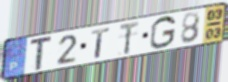2: (58, 33, 79, 66)
8: (180, 12, 201, 44)
G: (149, 15, 178, 51)
T: (29, 34, 54, 72), (118, 20, 141, 56), (90, 26, 111, 59)
